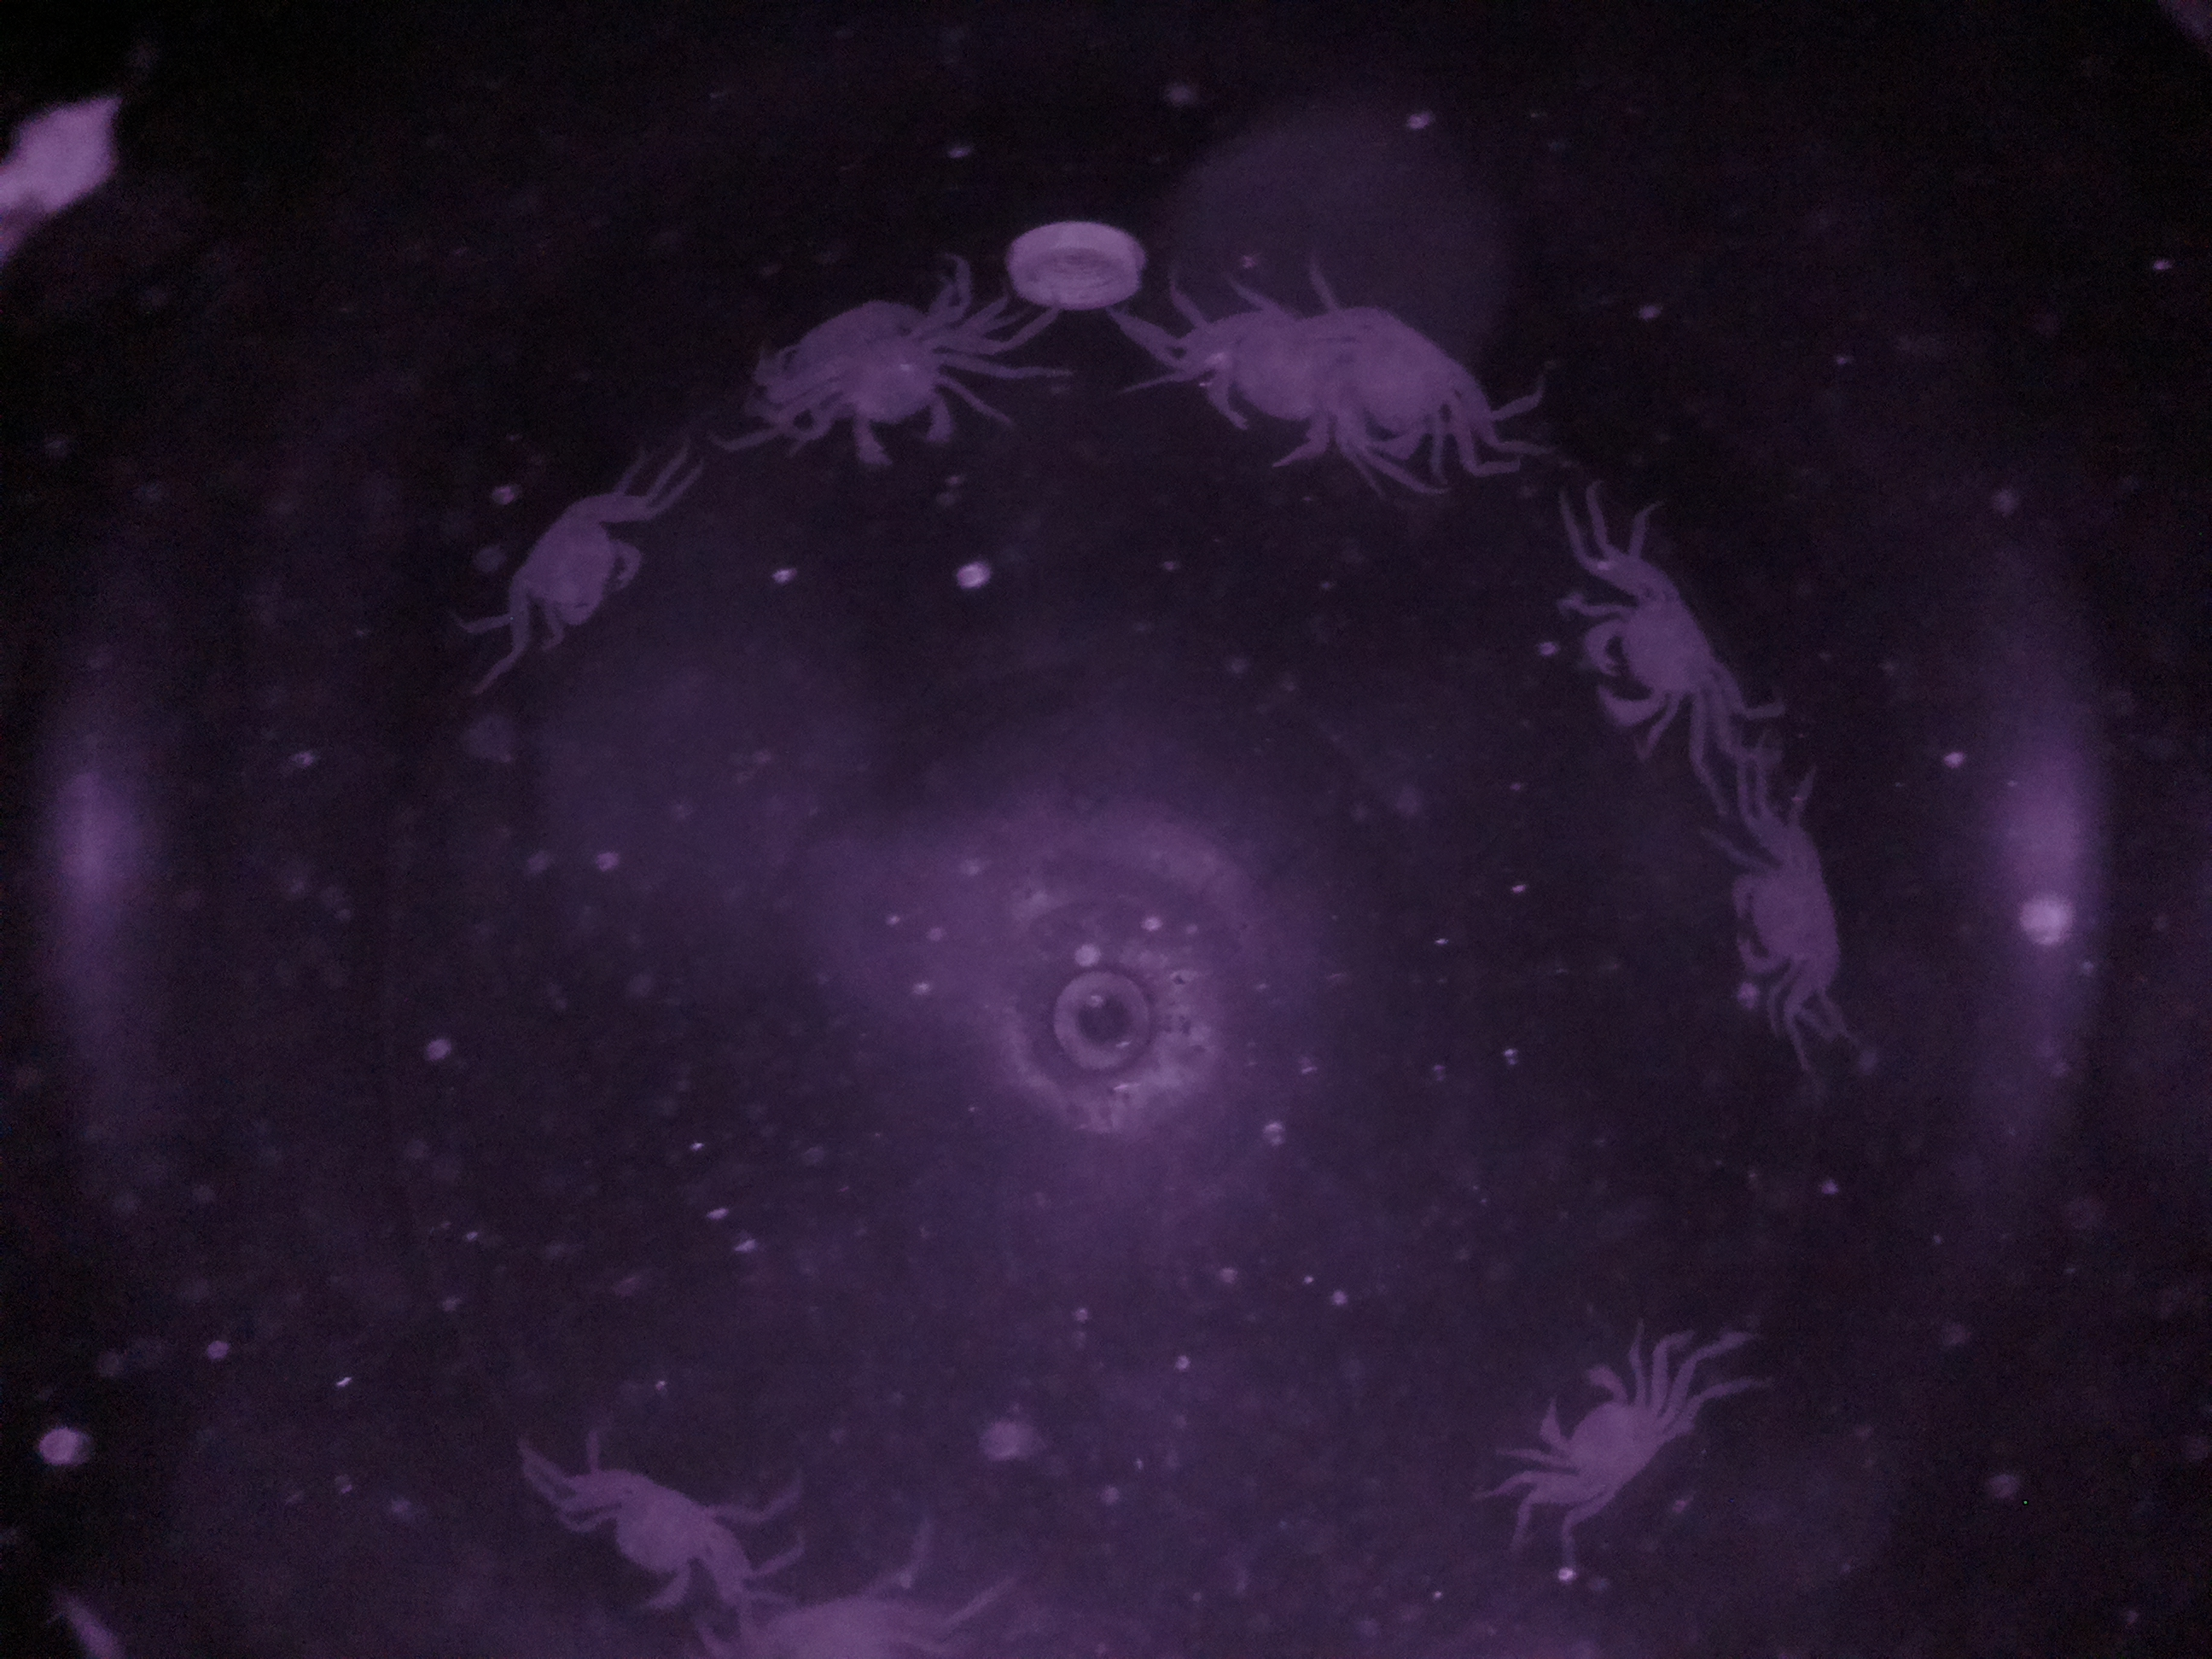Crab: (1564, 549, 1750, 767), (1512, 1342, 1696, 1528), (491, 474, 664, 673), (1698, 816, 1869, 1014)
